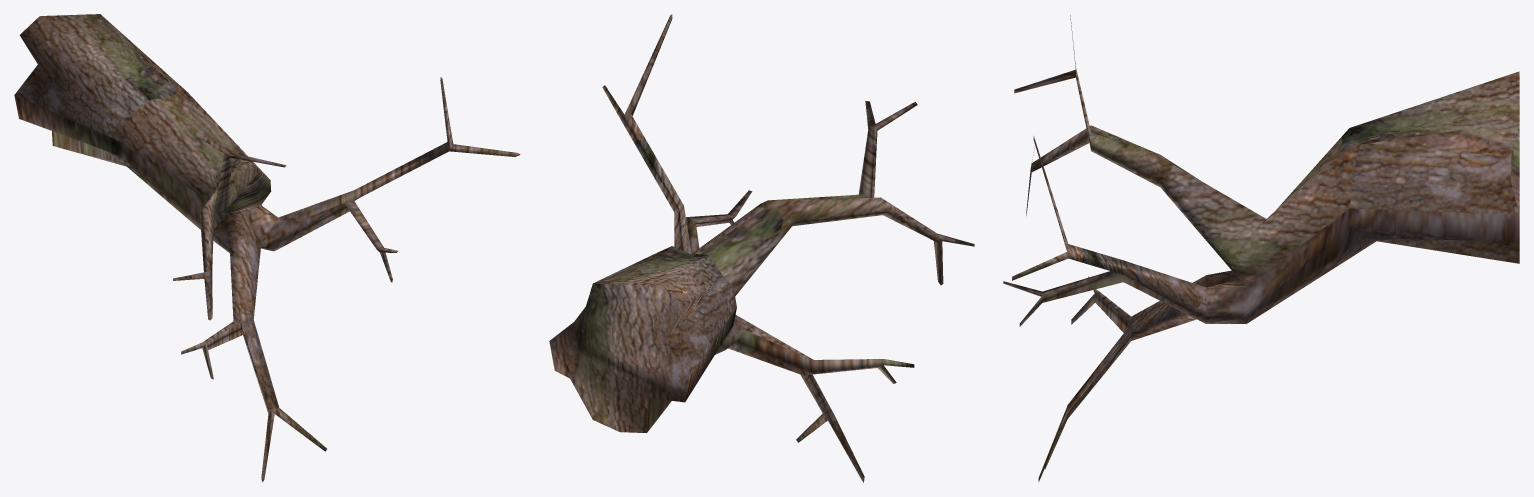
The model's file is tree1.obj.
3 renders of one model, left to right at view 1: azimuth 30°, elevation 25°; view 2: azimuth 150°, elevation 25°; view 3: azimuth 270°, elevation 25°, orthographic. The views are drawn at different scales.
Visible parts, largest first — view 1: cylinder1; view 2: cylinder1; view 3: cylinder1.
Part boxes in pixels (x1,y1,x2,y2): cylinder1: [14, 14, 520, 482]; cylinder1: [549, 14, 974, 482]; cylinder1: [1003, 15, 1519, 481].
Bounding box in the file's own units: 5.43 × 5.64 × 6.07.
Materials: 1 (1 with a texture image).
